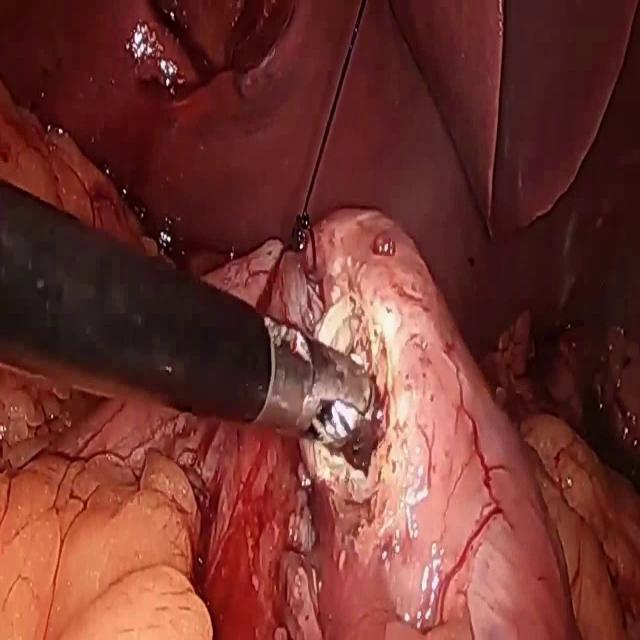surgical-area: (0, 0, 640, 639)
surgical-tool: (0, 178, 375, 446)
